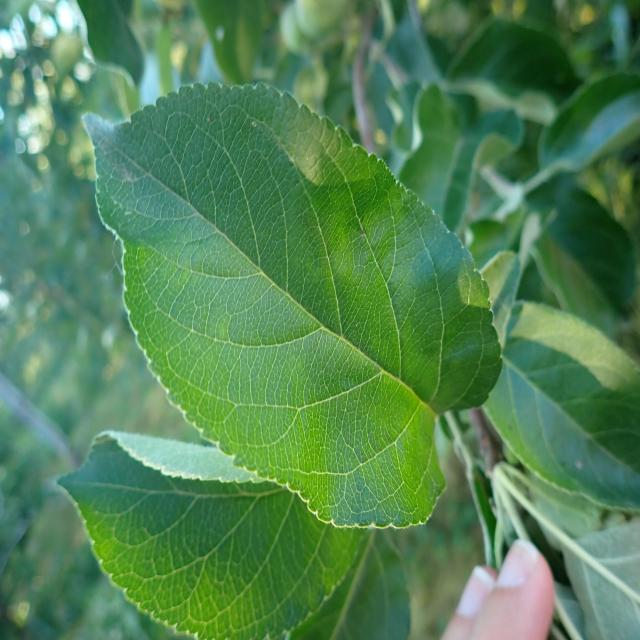healthy: (80, 80, 503, 532), (52, 426, 370, 640), (476, 250, 640, 512), (288, 529, 411, 640), (562, 518, 640, 639)
